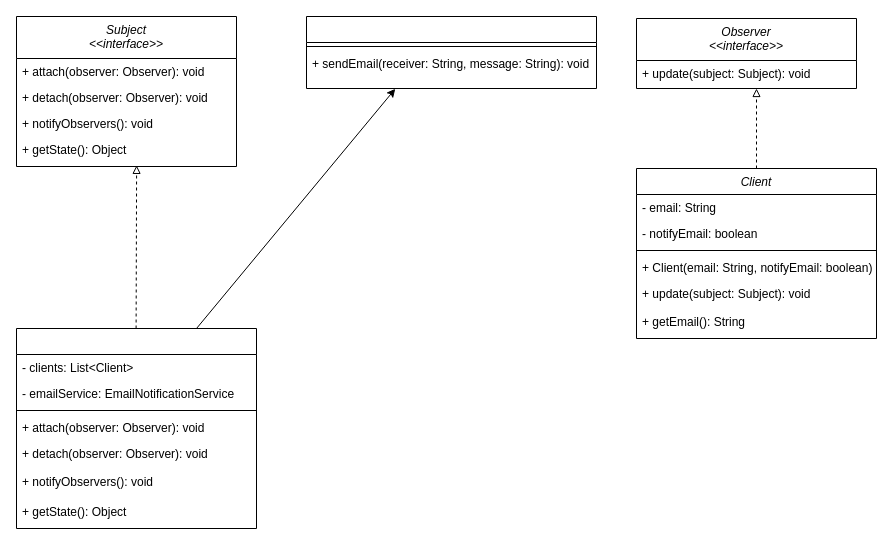
This 893x545 diagram has some shape labels left out. The box of each missing label's shape, as (x1, y1, x2, y2) in pixels:
EmailNotificationService: (306, 16, 596, 88)
NotificationSystem: (16, 328, 256, 528)
